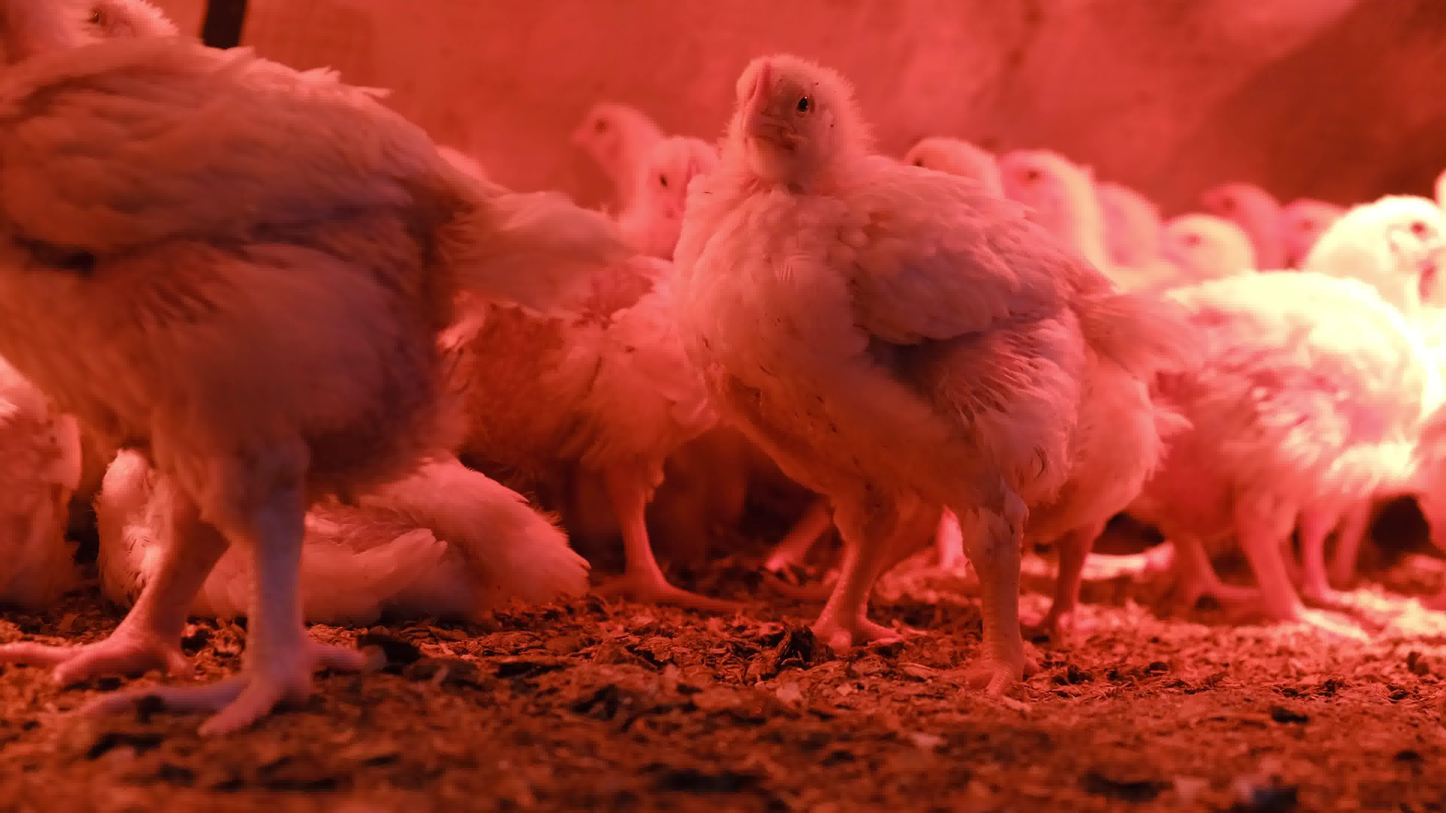AbNormal: (96, 396, 590, 629), (0, 348, 81, 610)
Normal: (4, 0, 622, 738), (671, 61, 1204, 711), (898, 136, 1201, 666), (1102, 194, 1446, 645), (444, 134, 725, 635), (998, 143, 1094, 286), (572, 98, 673, 220), (1102, 174, 1167, 274), (1207, 179, 1277, 270), (1170, 202, 1244, 277), (1284, 198, 1348, 264)
